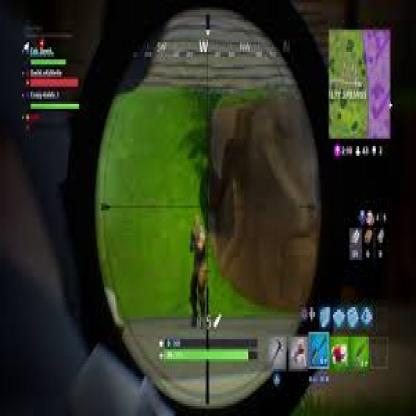person: (185, 220, 213, 325)
